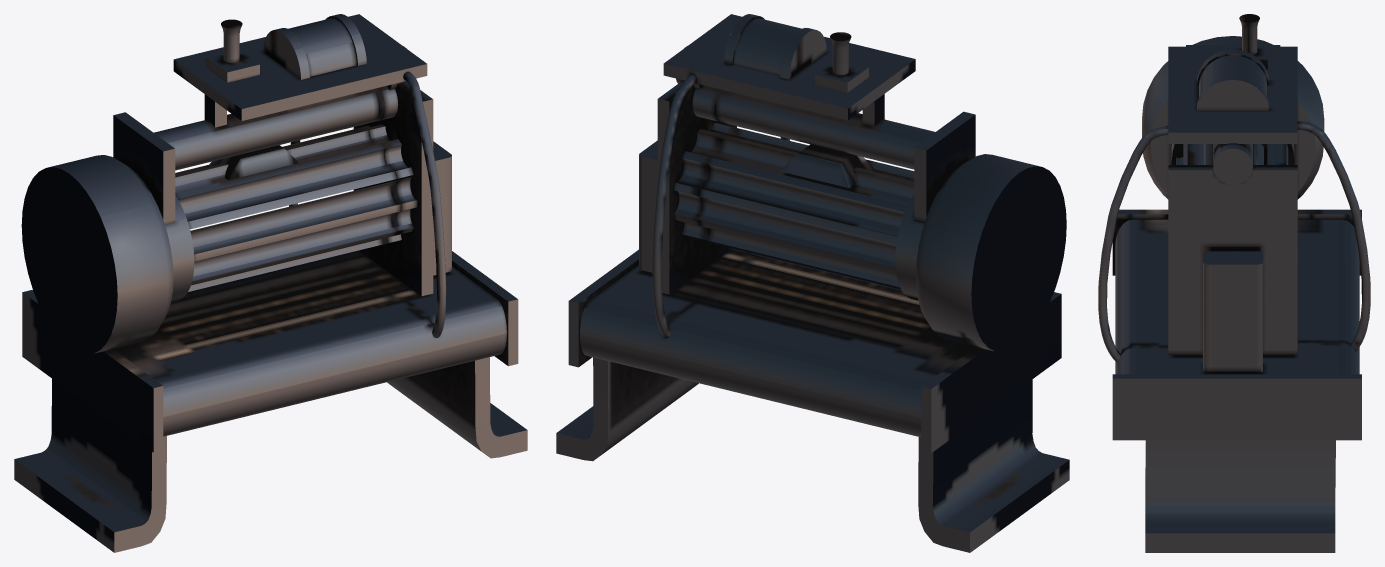
Rendered from dianzi_1.glb.
The picture shows the model from 3 angles, left to right: view 1: azimuth 30°, elevation 25°; view 2: azimuth 150°, elevation 25°; view 3: azimuth 270°, elevation 25°; orthographic projection. The views are drawn at different scales.
Visible parts, largest first — view 1: 元件_1; view 2: 元件_1; view 3: 元件_1.
Boxes of the visible parts, x1,y1,x2,y2 form: 元件_1: [14, 14, 527, 552]; 元件_1: [556, 14, 1069, 552]; 元件_1: [1098, 14, 1370, 552].
Size of the model in its own units: 2.06 by 2.11 by 1.23.
Materials: 1 (1 with a texture image).
